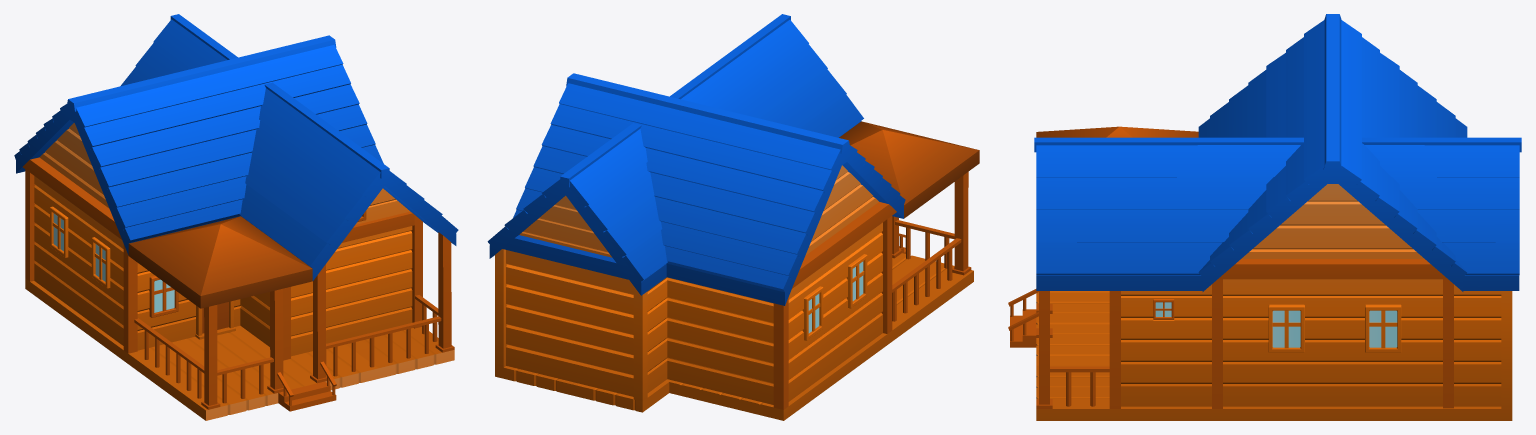
The model's file is Farm_House_Wooden_House_02.fbx.
3 renders of one model, left to right at view 1: azimuth 30°, elevation 25°; view 2: azimuth 150°, elevation 25°; view 3: azimuth 270°, elevation 25°, orthographic. The views are drawn at different scales.
Parts seen in each view (by area): view 1: Farm_House_Wooden_House_02; view 2: Farm_House_Wooden_House_02; view 3: Farm_House_Wooden_House_02.
Boxes of the visible parts, x1,y1,x2,y2 form: Farm_House_Wooden_House_02: [14, 14, 458, 420]; Farm_House_Wooden_House_02: [487, 14, 979, 420]; Farm_House_Wooden_House_02: [1008, 14, 1521, 420].
Bounding box in the file's own units: 1260 × 1048 × 1854.
